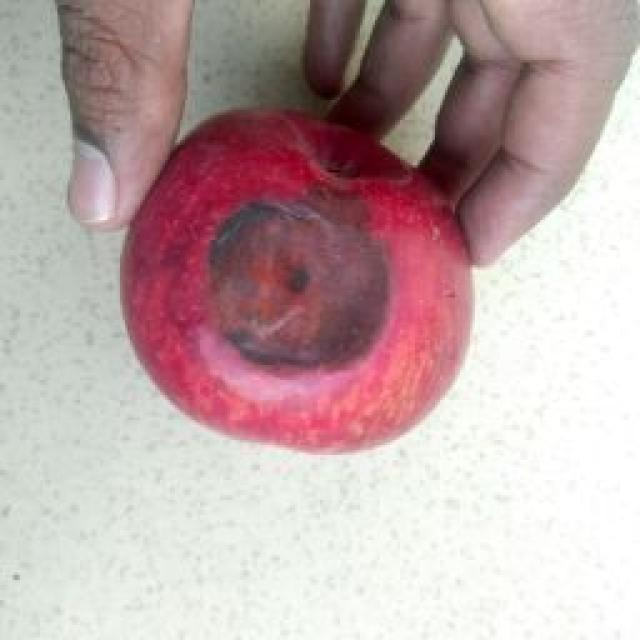Bad_Apple: (121, 111, 472, 451)
